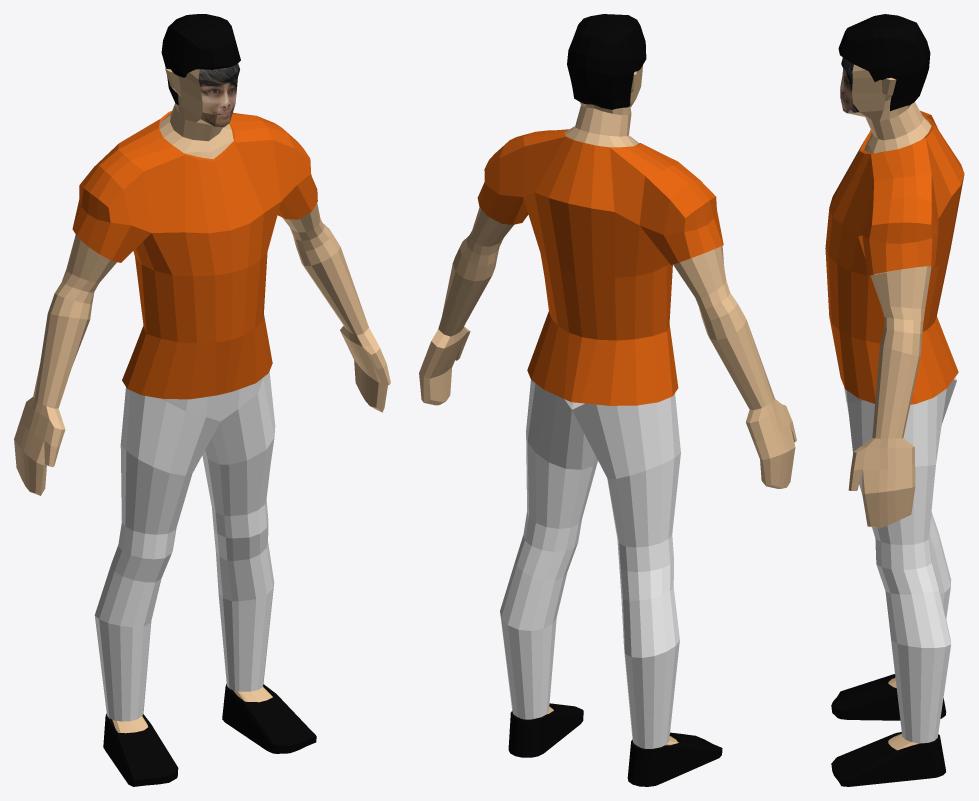
Rendered from PlayerCharacter2.fbx.
The picture shows the model from 3 angles, left to right: view 1: azimuth 30°, elevation 25°; view 2: azimuth 150°, elevation 25°; view 3: azimuth 270°, elevation 25°; orthographic projection.
Parts seen in each view (by area): view 1: Human full; view 2: Human full; view 3: Human full.
Part boxes in pixels (x1,y1,x2,y2): Human full: (14, 14, 390, 786); Human full: (419, 14, 796, 786); Human full: (825, 14, 964, 786).
Size of the model in its own units: 102 by 199 by 34.8.
